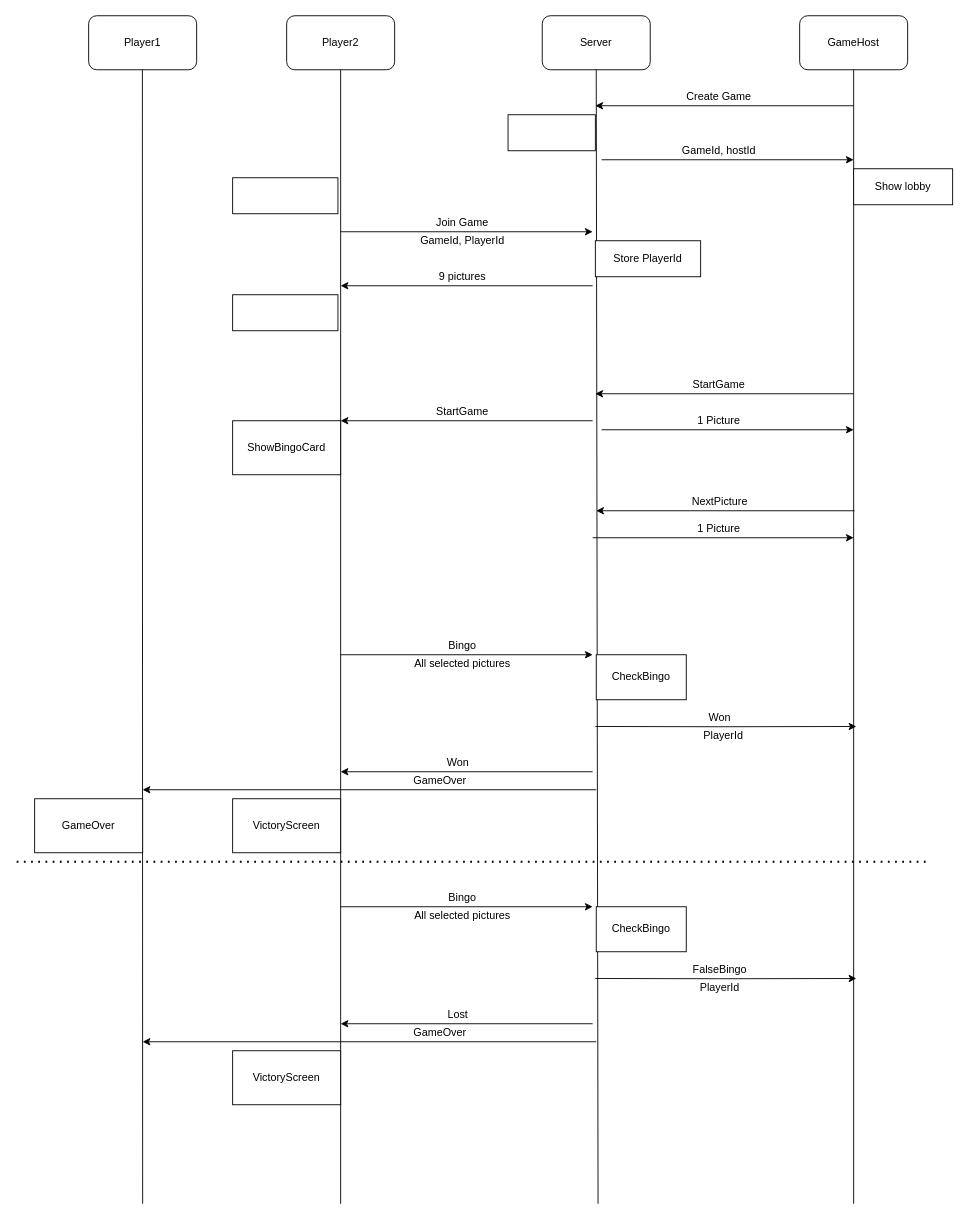
This 968x1220 diagram has some shape labels left out. Here are the shapes that lost their labels. From the top down, the centre of each, then its label:
At pixel 551 132: "Maak GameId Maak HostId".
At pixel 285 195: "Join Game screen".
At pixel 285 312: "WaitScreen".
